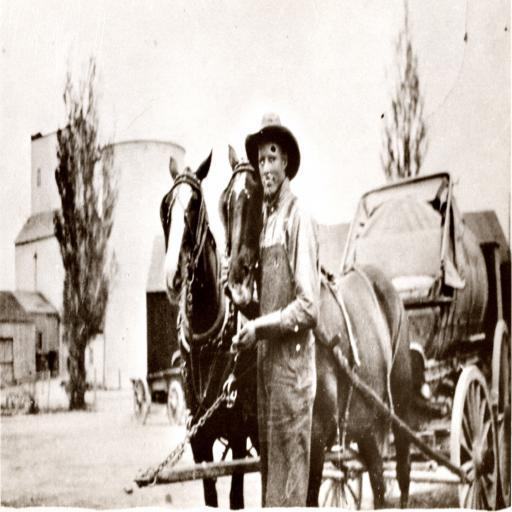horse: (216, 134, 412, 512), (158, 152, 262, 512)
